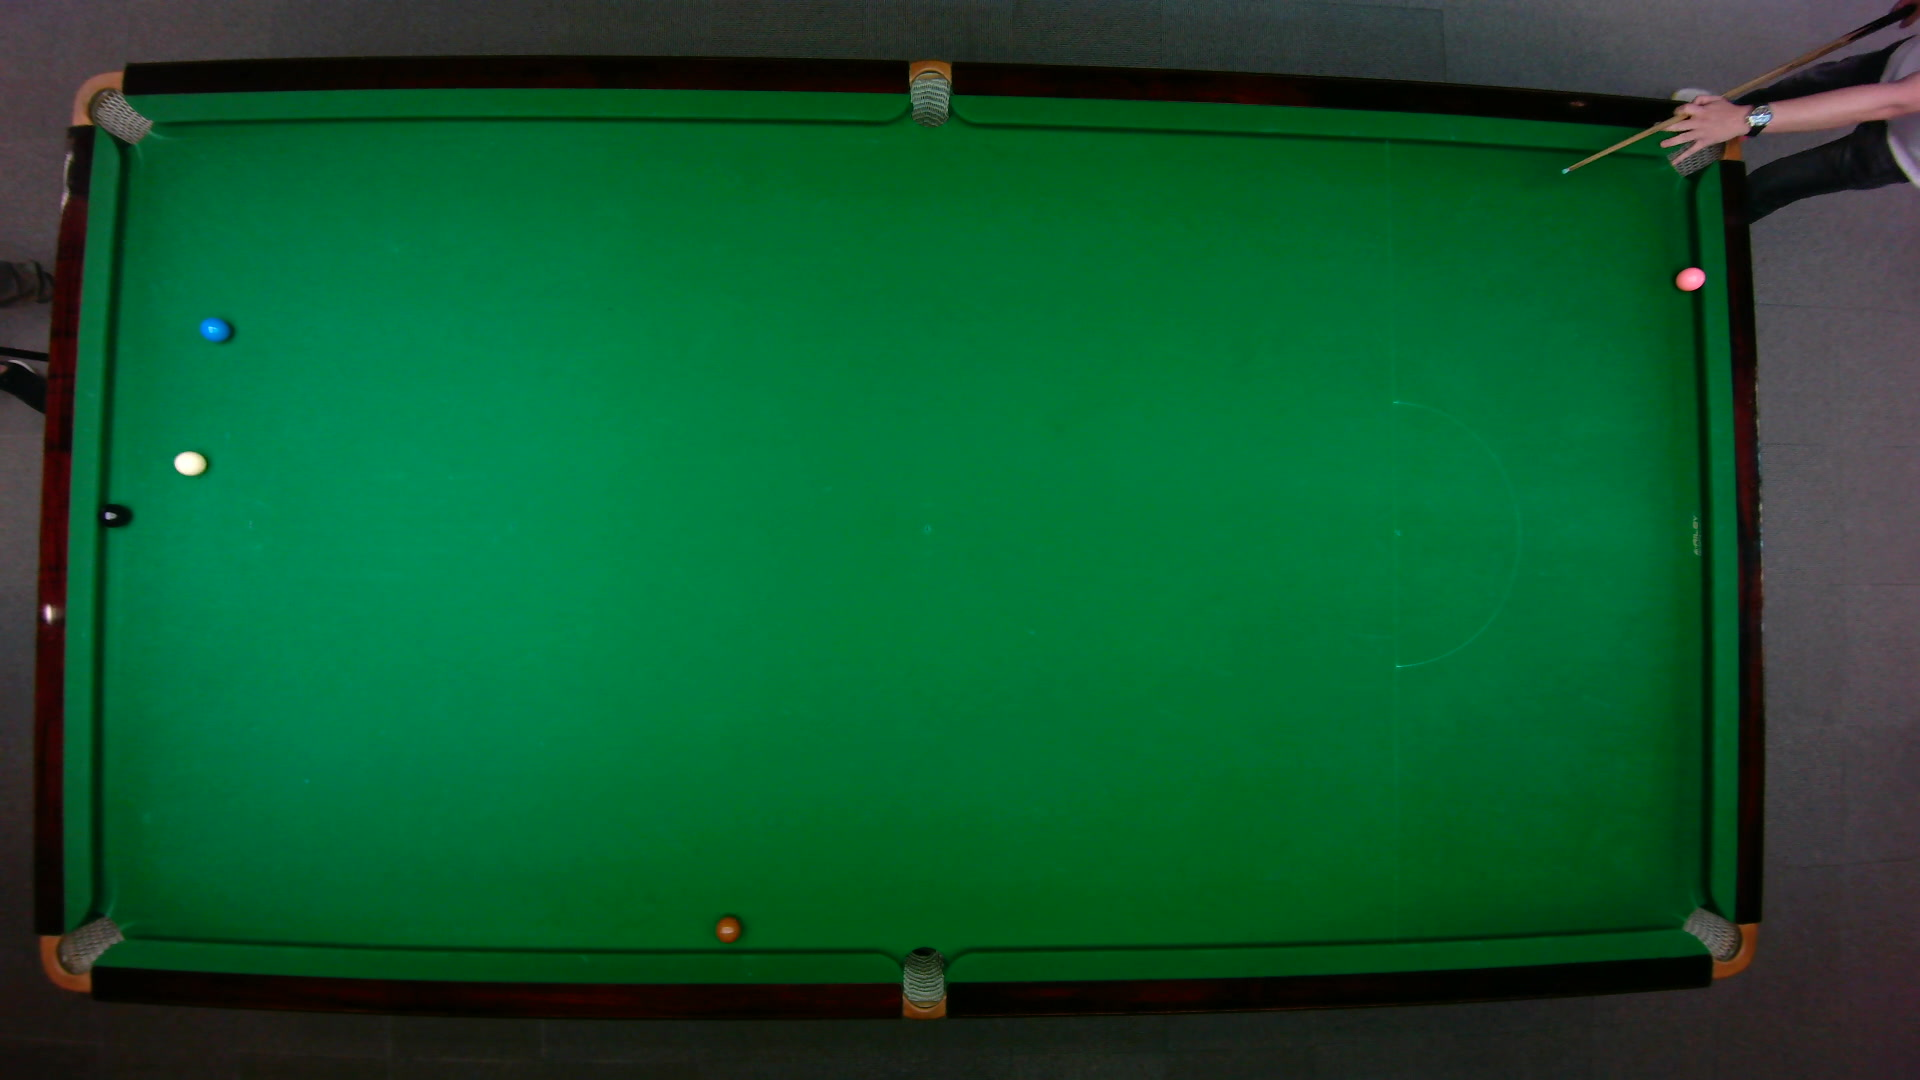bag: (36, 913, 125, 992), (69, 69, 153, 145), (1677, 905, 1756, 978), (901, 944, 944, 1021), (909, 57, 949, 128)
black: (96, 502, 127, 527)
blue: (196, 315, 231, 342)
brown: (713, 914, 740, 942)
cue: (1556, 0, 1920, 177)
pink: (1673, 264, 1706, 291)
white: (171, 448, 208, 476)
zone: (1390, 398, 1520, 669)
